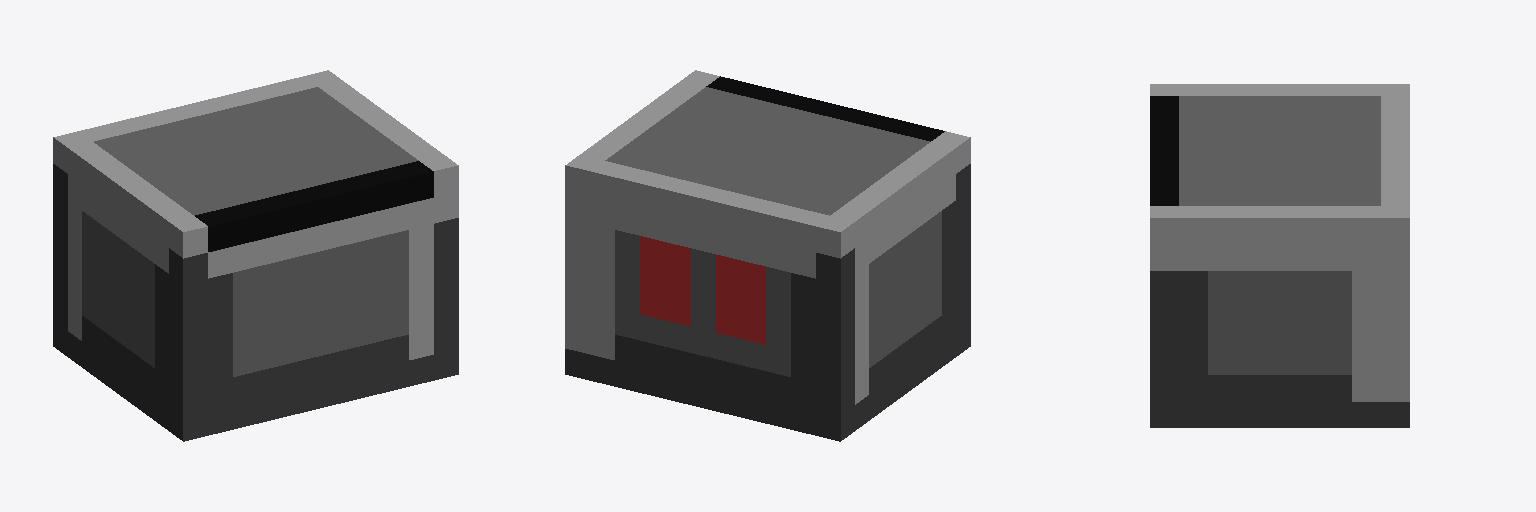
3 views of the same model, side by side, from view 1: azimuth 30°, elevation 25°; view 2: azimuth 150°, elevation 25°; view 3: azimuth 270°, elevation 25° (orthographic).
Parts seen in each view (by area): view 1: object 1; view 2: object 1; view 3: object 1.
Part boxes in pixels (x1,y1,x2,y2): object 1: (53, 70, 458, 441); object 1: (565, 70, 970, 441); object 1: (1150, 84, 1409, 427).
Bounding box in the file's own units: 1.1 × 0.8 × 0.9.
1 materials, 1 textured.